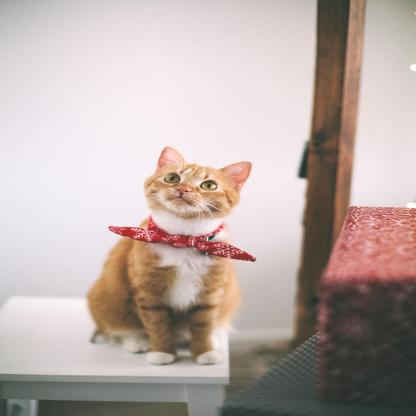cat: (81, 138, 265, 367)
